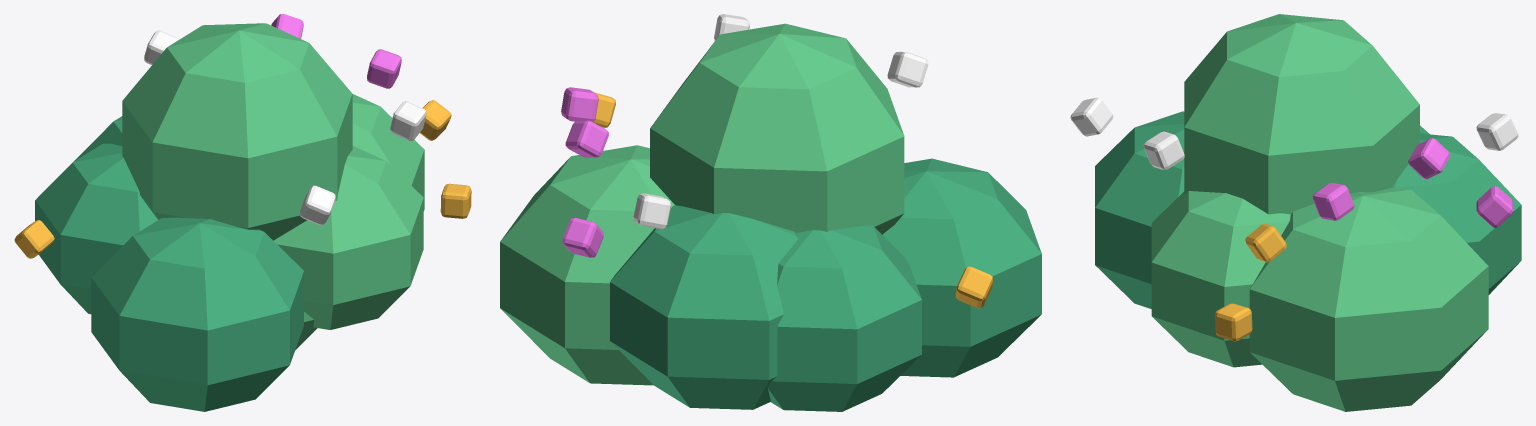
The model's file is bush.glb.
The picture shows the model from 3 angles, left to right: view 1: azimuth 30°, elevation 25°; view 2: azimuth 150°, elevation 25°; view 3: azimuth 270°, elevation 25°; orthographic projection. The views are drawn at different scales.
Parts seen in each view (by area): view 1: bush; view 2: bush; view 3: bush.
Boxes of the visible parts, x1,y1,x2,y2 form: bush: (14,14,471,411); bush: (500,14,1041,411); bush: (1070,14,1521,411).
Bounding box in the file's own units: 0.7578 × 0.5683 × 0.692.
Materials: 1 (1 with a texture image).
